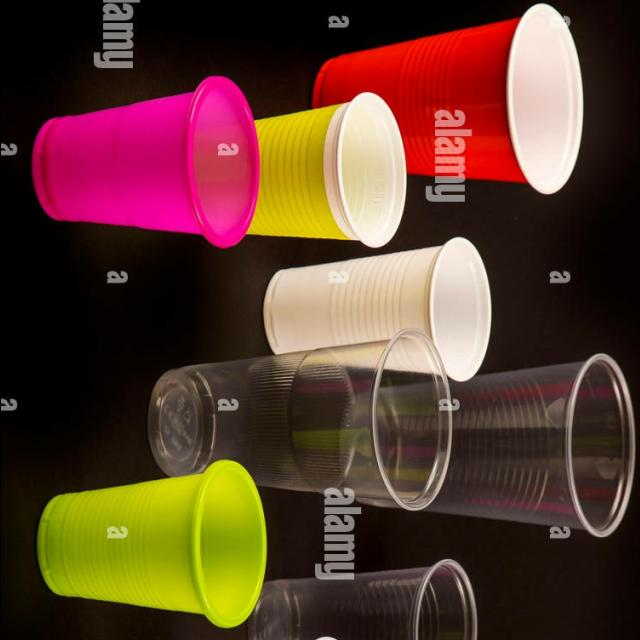plastik: (146, 330, 450, 510), (312, 4, 582, 194), (32, 77, 259, 248), (36, 460, 265, 628), (425, 354, 634, 537), (263, 238, 490, 381), (248, 92, 406, 248), (247, 560, 475, 640)
